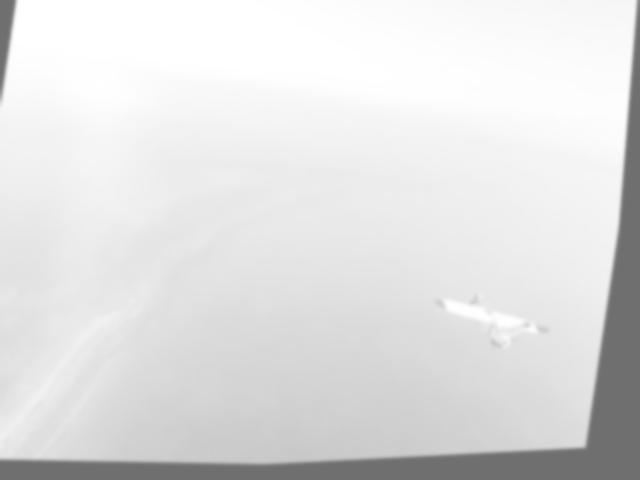hedef: (424, 281, 575, 378)
